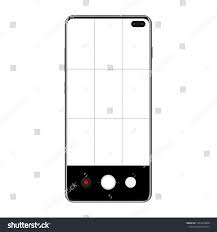camera: (100, 171, 116, 193)
